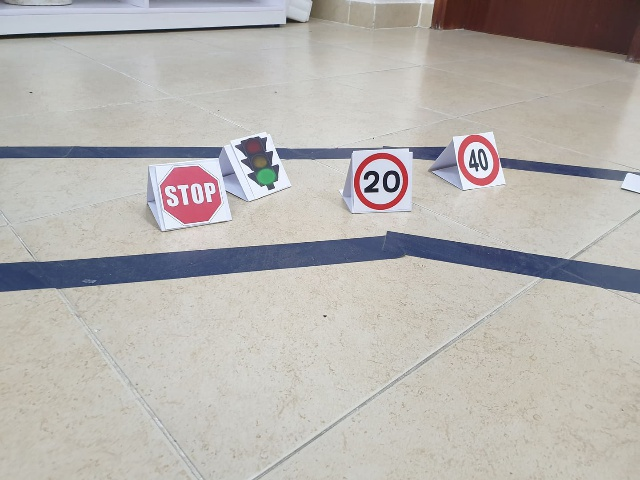Green: (233, 137, 281, 192)
Limit 20: (353, 148, 411, 208)
Limit 40: (453, 133, 501, 185)
Stop: (157, 162, 224, 224)
